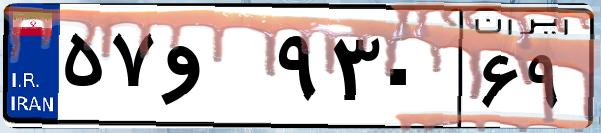0: (385, 28, 445, 110)
3: (330, 28, 385, 110)
5: (57, 26, 110, 100)
6: (475, 38, 525, 113)
7: (110, 28, 158, 98)
9: (270, 28, 330, 110), (525, 38, 570, 115)
و: (158, 20, 270, 120)
